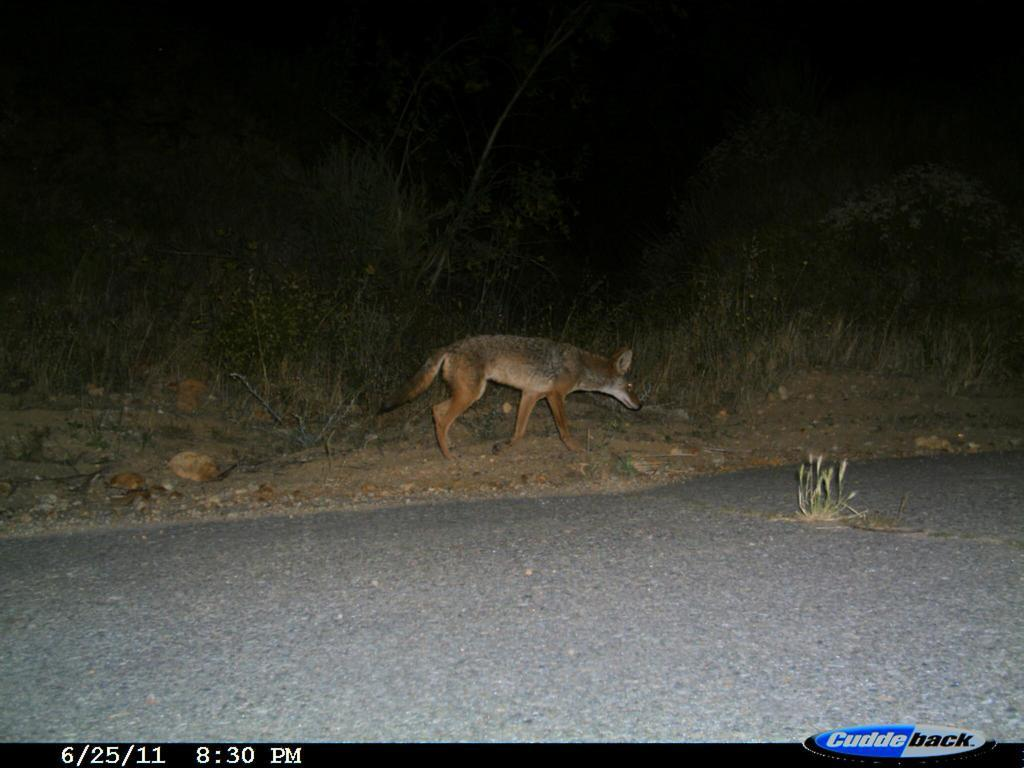coyote: (365, 324, 651, 469)
